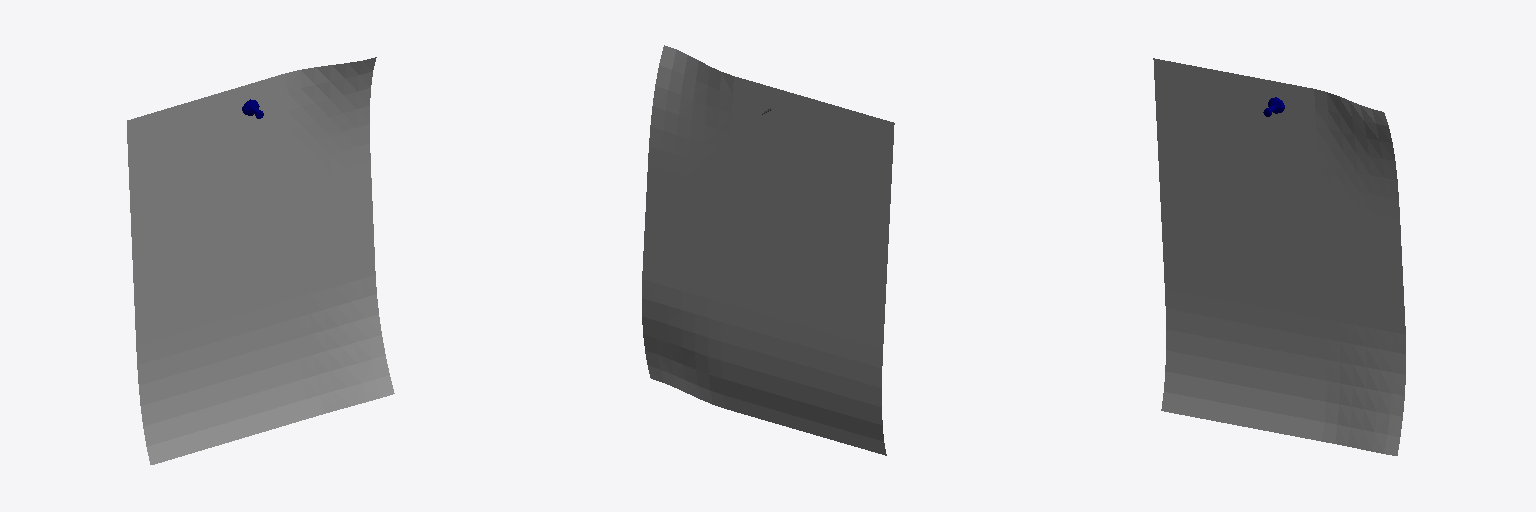
The model's file is paperpin3.obj.
The picture shows the model from 3 angles: view 1: azimuth 30°, elevation 25°; view 2: azimuth 150°, elevation 25°; view 3: azimuth 330°, elevation 25°; orthographic projection.
Parts seen in each view (by area): view 1: drawing.002; view 2: drawing.002; view 3: drawing.002.
Part boxes in pixels (x1,y1,x2,y2): drawing.002: (127, 57, 394, 464); drawing.002: (642, 45, 894, 455); drawing.002: (1153, 58, 1405, 455).
Size of the model in its own units: 0.2305 by 0.3054 by 0.0331.